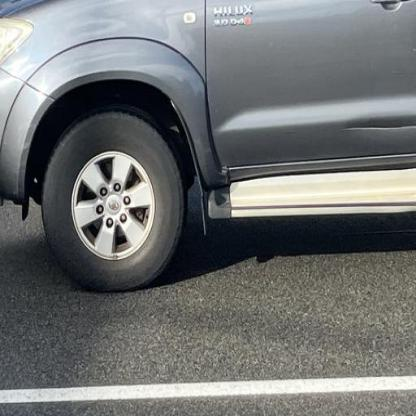Tire: (42, 112, 185, 293)
